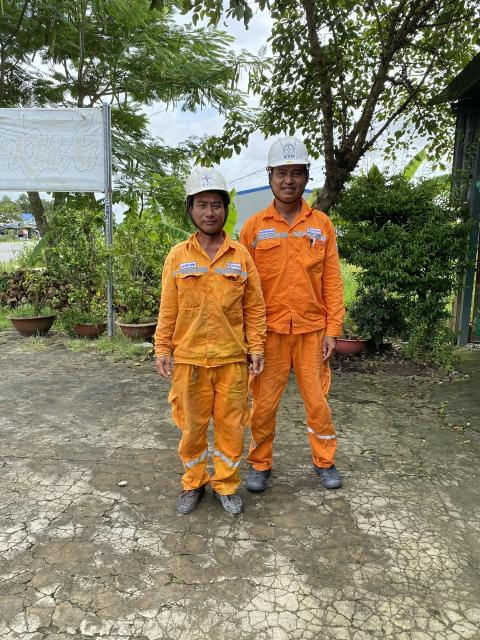helmet: (255, 126, 321, 174), (181, 155, 237, 208)
shoes: (308, 455, 347, 492), (215, 476, 246, 519), (240, 461, 275, 494), (183, 475, 203, 519)
